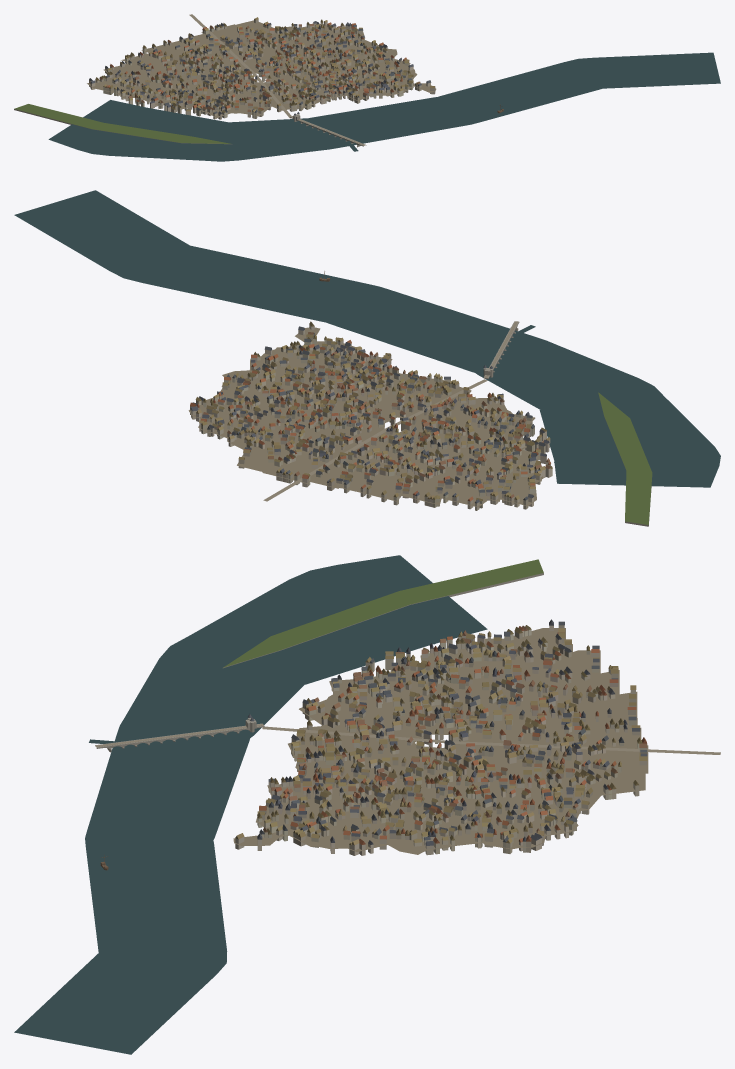
The model's file is rouen_siege.glb.
3 renders of one model, top to bottom at view 1: azimuth 30°, elevation 25°; view 2: azimuth 150°, elevation 25°; view 3: azimuth 270°, elevation 25°, orthographic. The views are drawn at different scales.
Parts seen in each view (by area): view 1: ground, houses, landmarks; view 2: ground, houses; view 3: ground, houses, landmarks.
Part boxes in pixels (bbox=[...]): ground: bbox=[14, 14, 720, 161]; houses: bbox=[89, 17, 435, 119]; landmarks: bbox=[290, 104, 503, 147]; ground: bbox=[14, 190, 720, 526]; houses: bbox=[190, 321, 552, 510]; ground: bbox=[14, 555, 720, 1054]; houses: bbox=[235, 619, 647, 855]; landmarks: bbox=[95, 714, 264, 870].
Size of the model in its own units: 2208 by 40.87 by 1320.
